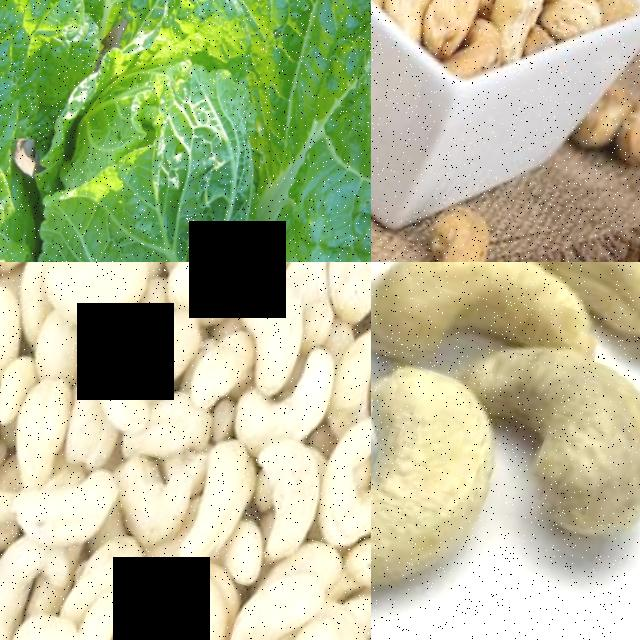cabbage: (0, 0, 361, 262)
cashew: (371, 333, 534, 640), (494, 342, 640, 543), (371, 262, 620, 370), (226, 422, 342, 576), (399, 166, 531, 262), (11, 461, 134, 561), (233, 262, 327, 388), (178, 431, 260, 573), (124, 365, 228, 476), (76, 313, 172, 428), (218, 552, 327, 640), (8, 374, 85, 493), (26, 262, 154, 330), (0, 532, 59, 640), (36, 293, 107, 379), (477, 0, 558, 60), (406, 0, 501, 51)
